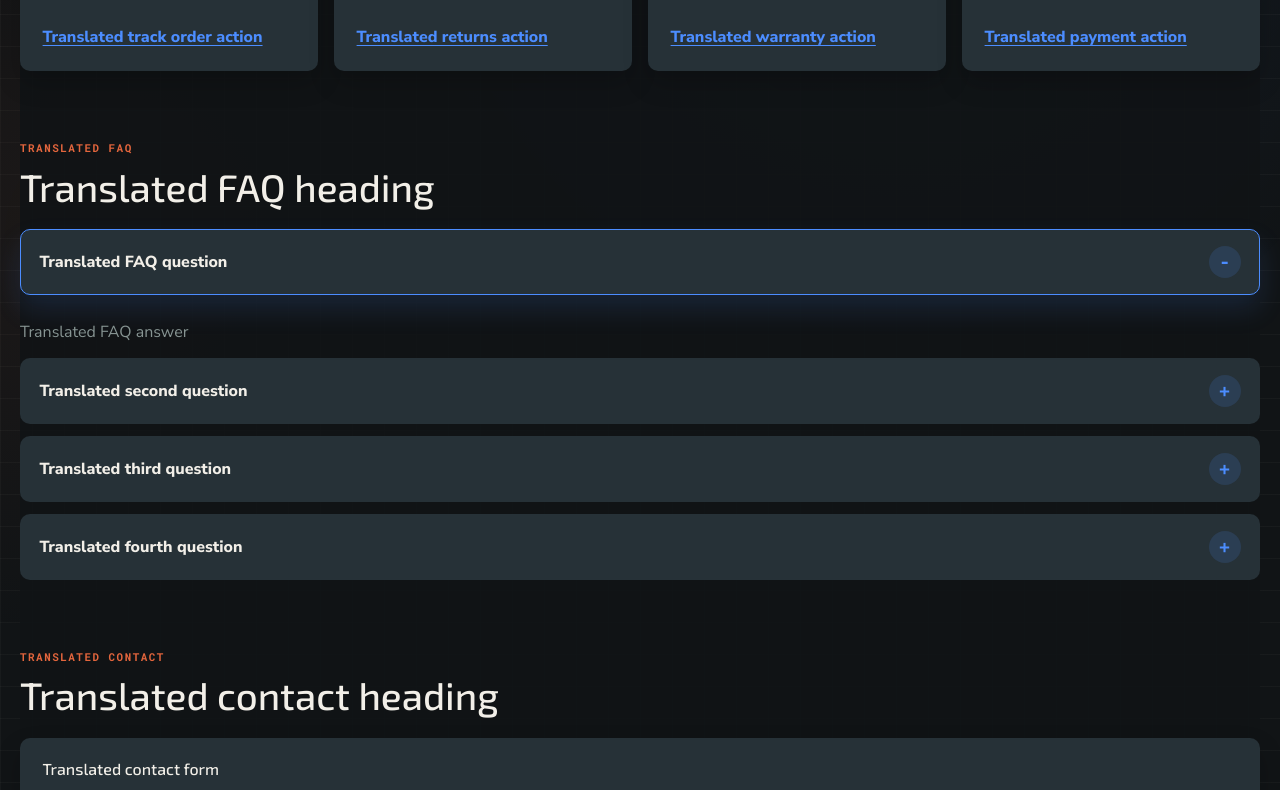
Test case: SupportPage › keeps the FAQ answer outside the control with stable ARIA relationships
This screenshot has width=1280, height=790.
(page scrolled)
Step 1. Click the button "Translated second question +" → x=143, y=391, box [20,358,1260,424]
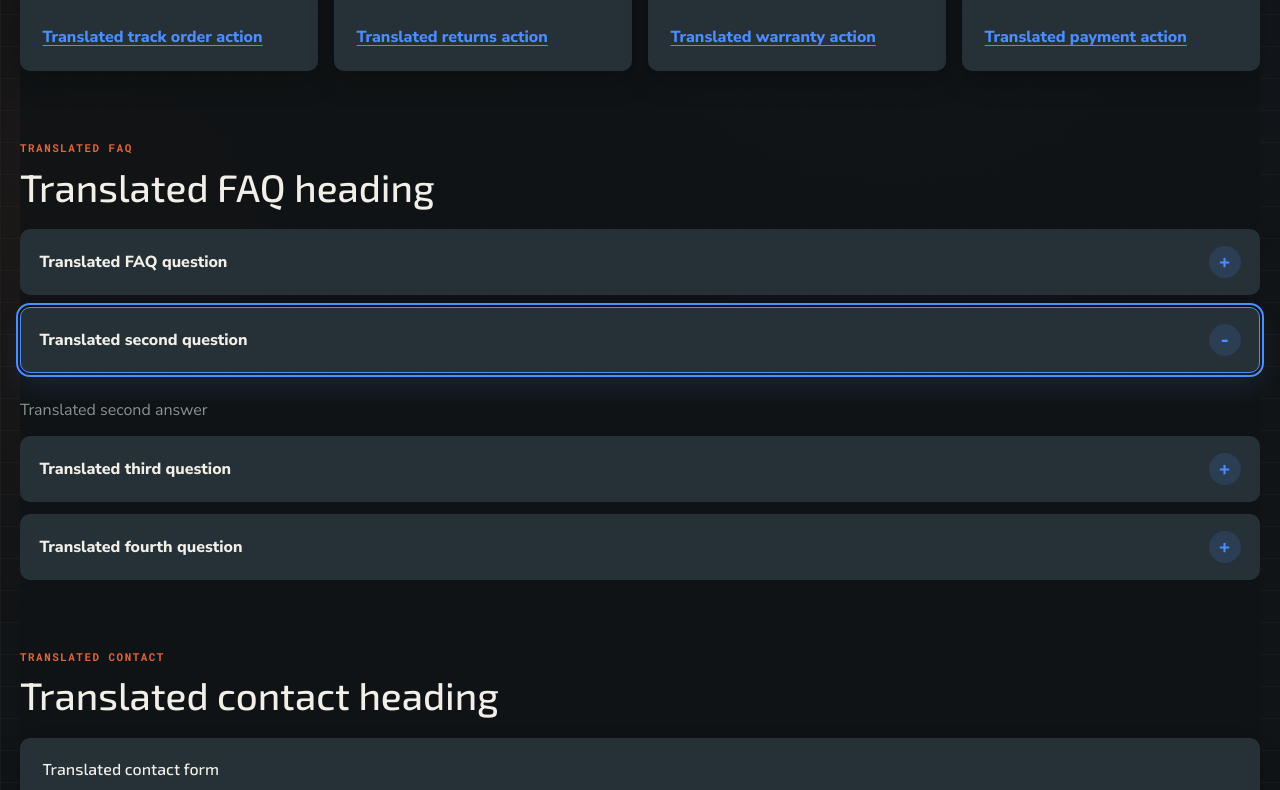
Expected: the button "Translated second question -" is expanded, [20,307,1260,373]
Expected: the button "Translated FAQ question +" is collapsed, [20,229,1260,295]
Expected: the text "Translated FAQ answer" is gone
